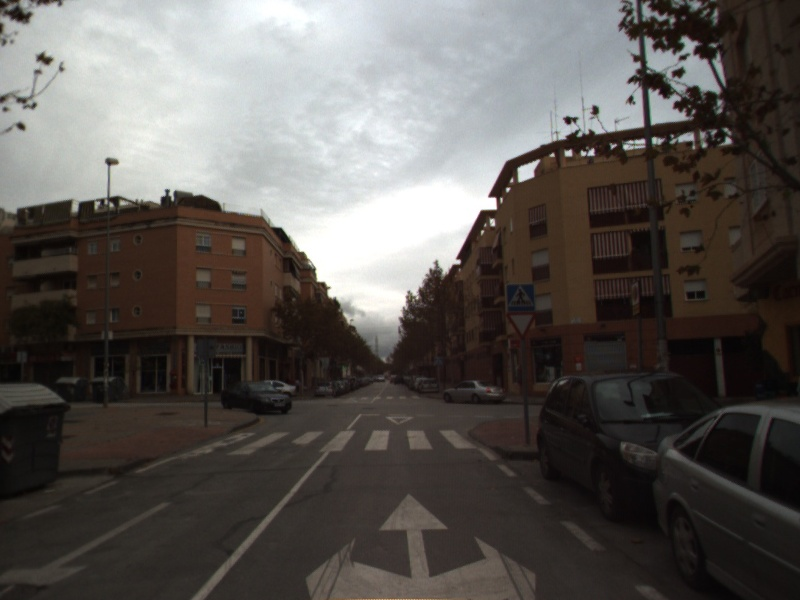STRAIGHT_LEFT_RIGHT: (303, 489, 540, 600)
